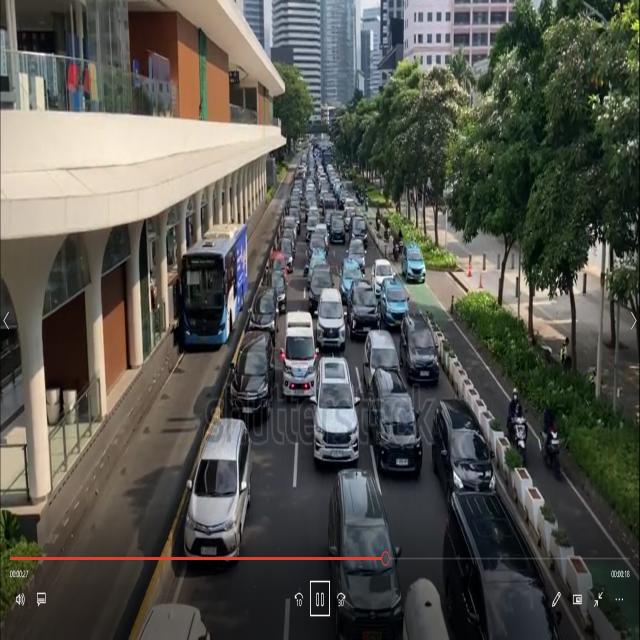Ambulance: (282, 306, 323, 410)
